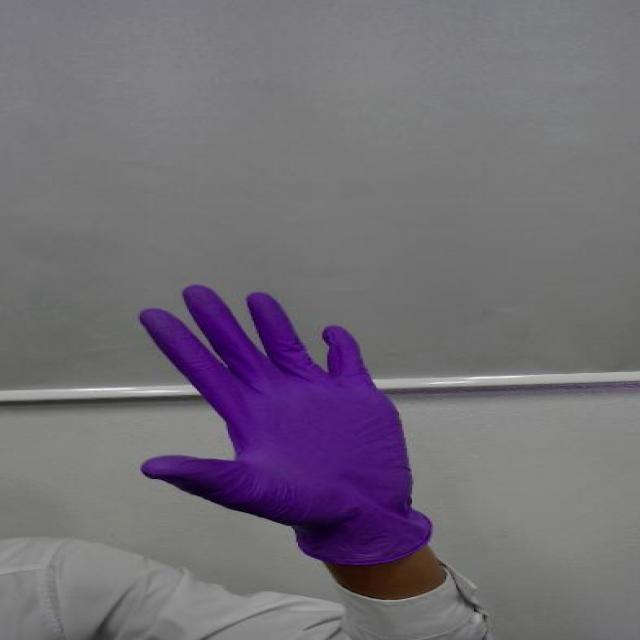apron: (117, 254, 459, 596)
